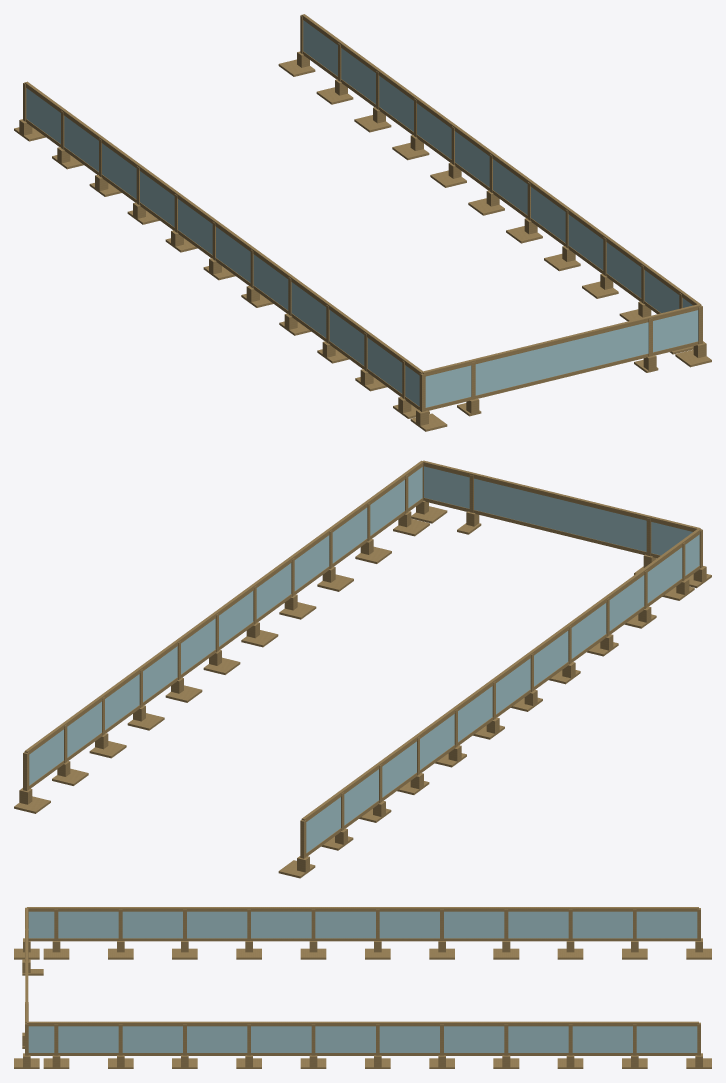
Rendered from G7_Completion_R010_G7C10_Aft_D18FloorEdges.glb.
The picture shows the model from 3 angles, top to bottom: view 1: azimuth 30°, elevation 25°; view 2: azimuth 150°, elevation 25°; view 3: azimuth 270°, elevation 25°; orthographic projection. The views are drawn at different scales.
Parts seen in each view (by area): view 1: G7C10_Aft_D18FloorEdges_G7C3_glass_solid_skin, G7C10_Aft_D18FloorEdges_G7C3_metal_solid_frame; view 2: G7C10_Aft_D18FloorEdges_G7C3_glass_solid_skin, G7C10_Aft_D18FloorEdges_G7C3_metal_solid_frame; view 3: G7C10_Aft_D18FloorEdges_G7C3_glass_solid_skin, G7C10_Aft_D18FloorEdges_G7C3_metal_solid_frame.
Boxes of the visible parts, left/top/right/bottom form: G7C10_Aft_D18FloorEdges_G7C3_glass_solid_skin: left=26, top=20, right=698, bottom=407; G7C10_Aft_D18FloorEdges_G7C3_metal_solid_frame: left=14, top=14, right=711, bottom=431; G7C10_Aft_D18FloorEdges_G7C3_glass_solid_skin: left=29, top=466, right=699, bottom=852; G7C10_Aft_D18FloorEdges_G7C3_metal_solid_frame: left=14, top=460, right=711, bottom=878; G7C10_Aft_D18FloorEdges_G7C3_glass_solid_skin: left=28, top=911, right=697, bottom=1052; G7C10_Aft_D18FloorEdges_G7C3_metal_solid_frame: left=14, top=907, right=711, bottom=1068.
Bounding box in the file's own units: 8.72 × 1.54 × 21.72.
2 materials, 1 textured.
